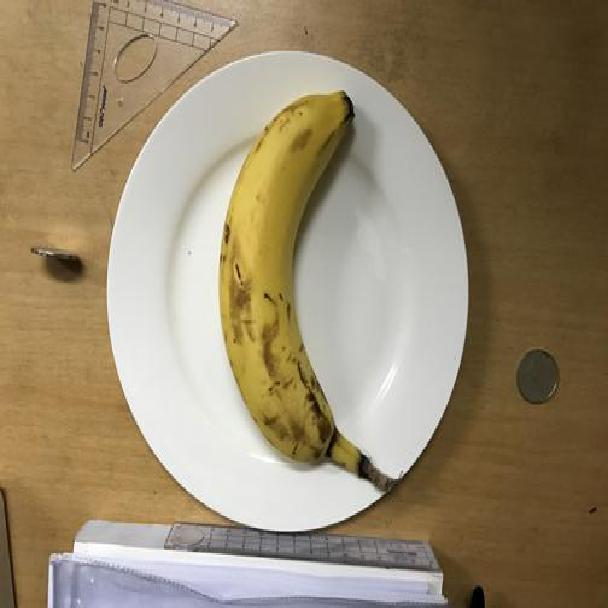banana: (217, 88, 407, 494)
